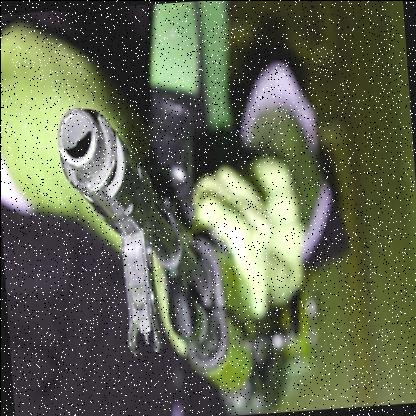rifle: (43, 75, 302, 416)
